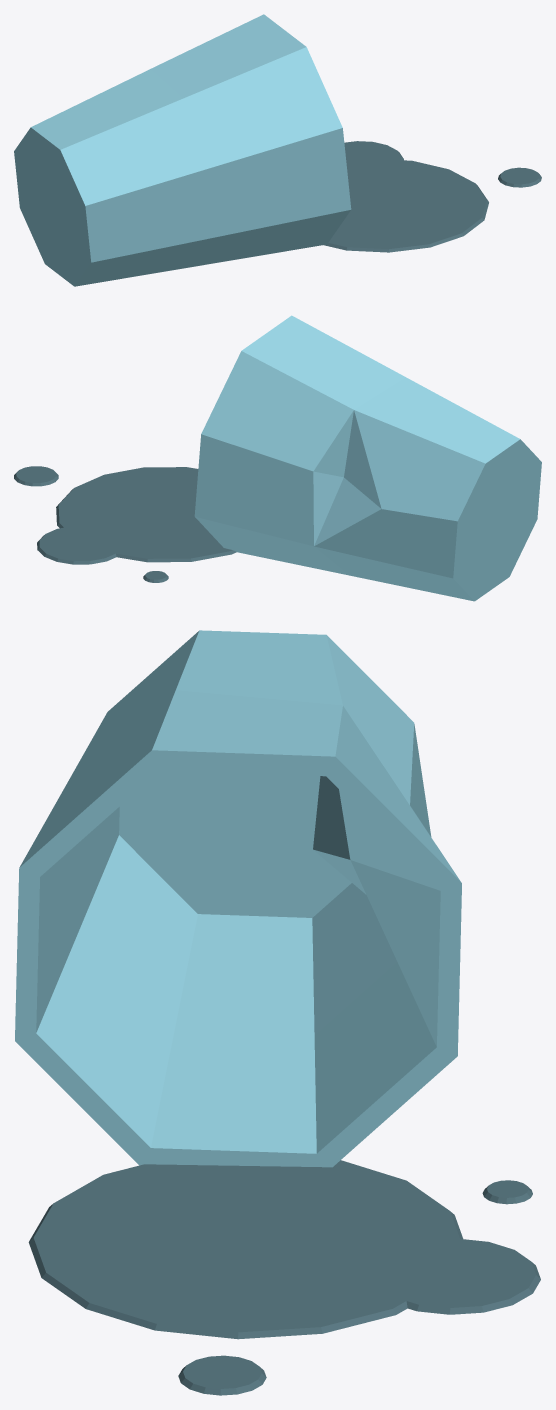
Rendered from Gray_Spill.fbx.
3 views of the same model, one above another, from view 1: azimuth 30°, elevation 25°; view 2: azimuth 150°, elevation 25°; view 3: azimuth 270°, elevation 25° (orthographic). The views are drawn at different scales.
Visible parts, largest first — view 1: Gray_Spill; view 2: Gray_Spill; view 3: Gray_Spill.
Part boxes in pixels (x1=…): Gray_Spill: x1=14, y1=14, x2=541, y2=286; Gray_Spill: x1=14, y1=315, x2=541, y2=601; Gray_Spill: x1=15, y1=630, x2=540, y2=1395.
Bounding box in the file's own units: 111 × 44.16 × 52.23.
